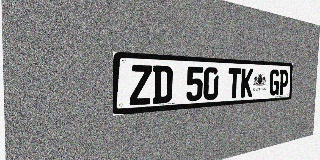0: (203, 67, 219, 100)
5: (186, 66, 203, 102)
D: (152, 65, 173, 104)
G: (269, 69, 280, 96)
K: (241, 68, 253, 98)
P: (279, 70, 289, 95)
T: (228, 68, 241, 99)
Z: (130, 64, 152, 106)
